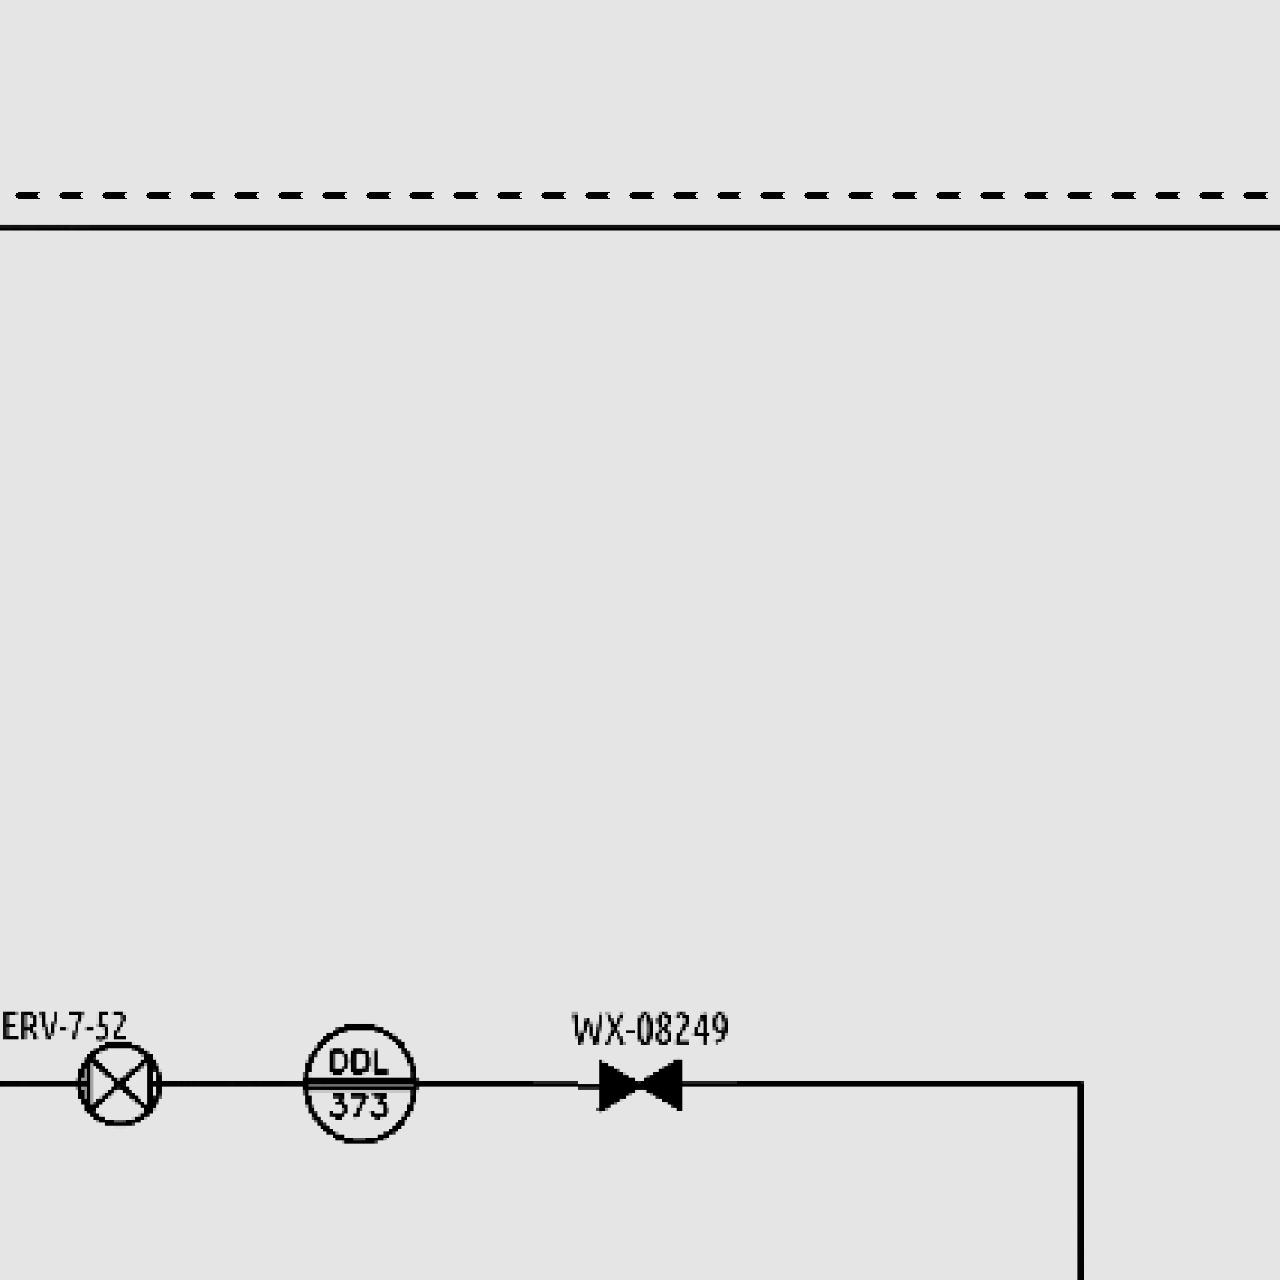Control-Panel: (295, 1017, 424, 1148)
